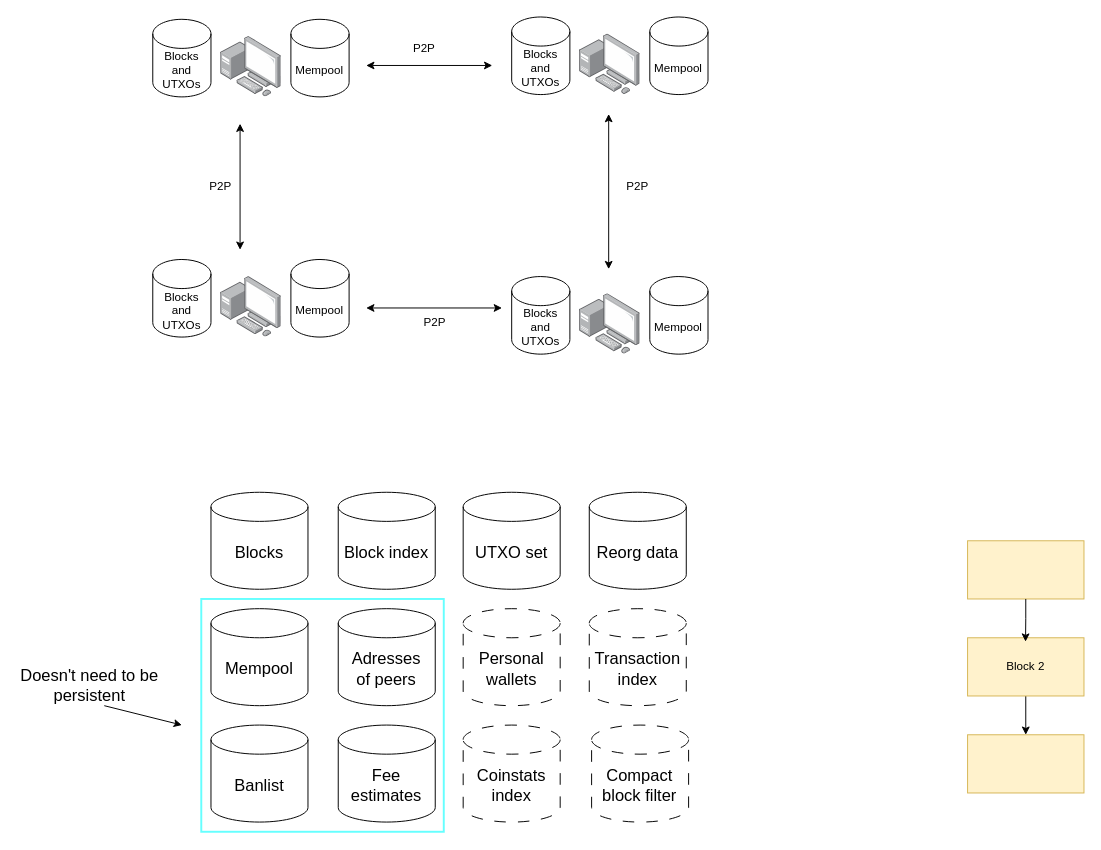
This 1101x850 diagram has some shape labels left out. Here are the shapes that lost their labels. From the top down, the centre of each, then its label:
At point (1025, 569): "Block 1".
At point (1025, 763): "Block 3".
